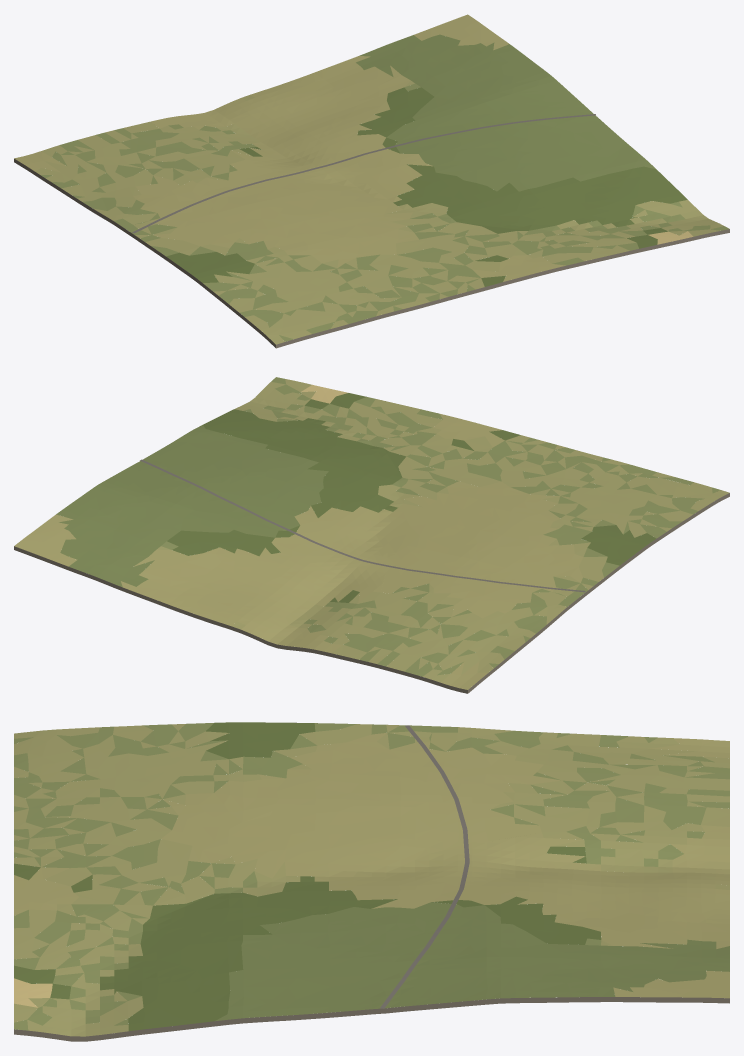
Rendered from parca_+2_-2-uzak.glb.
3 renders of one model, top to bottom at view 1: azimuth 30°, elevation 25°; view 2: azimuth 150°, elevation 25°; view 3: azimuth 270°, elevation 25°, orthographic. The views are drawn at different scales.
Parts seen in each view (by area): view 1: parca_+2_-2_arazi_uzak, parca_+2_-2_yollar_uzak; view 2: parca_+2_-2_arazi_uzak, parca_+2_-2_yollar_uzak; view 3: parca_+2_-2_arazi_uzak, parca_+2_-2_yollar_uzak.
Part boxes in pixels (x1,y1,x2,y2): parca_+2_-2_arazi_uzak: (14, 14, 729, 348); parca_+2_-2_yollar_uzak: (132, 114, 595, 233); parca_+2_-2_arazi_uzak: (14, 377, 729, 693); parca_+2_-2_yollar_uzak: (140, 459, 585, 592); parca_+2_-2_arazi_uzak: (14, 722, 729, 1041); parca_+2_-2_yollar_uzak: (380, 725, 469, 1008).
Size of the model in its own units: 1002 by 82.1 by 1000.
